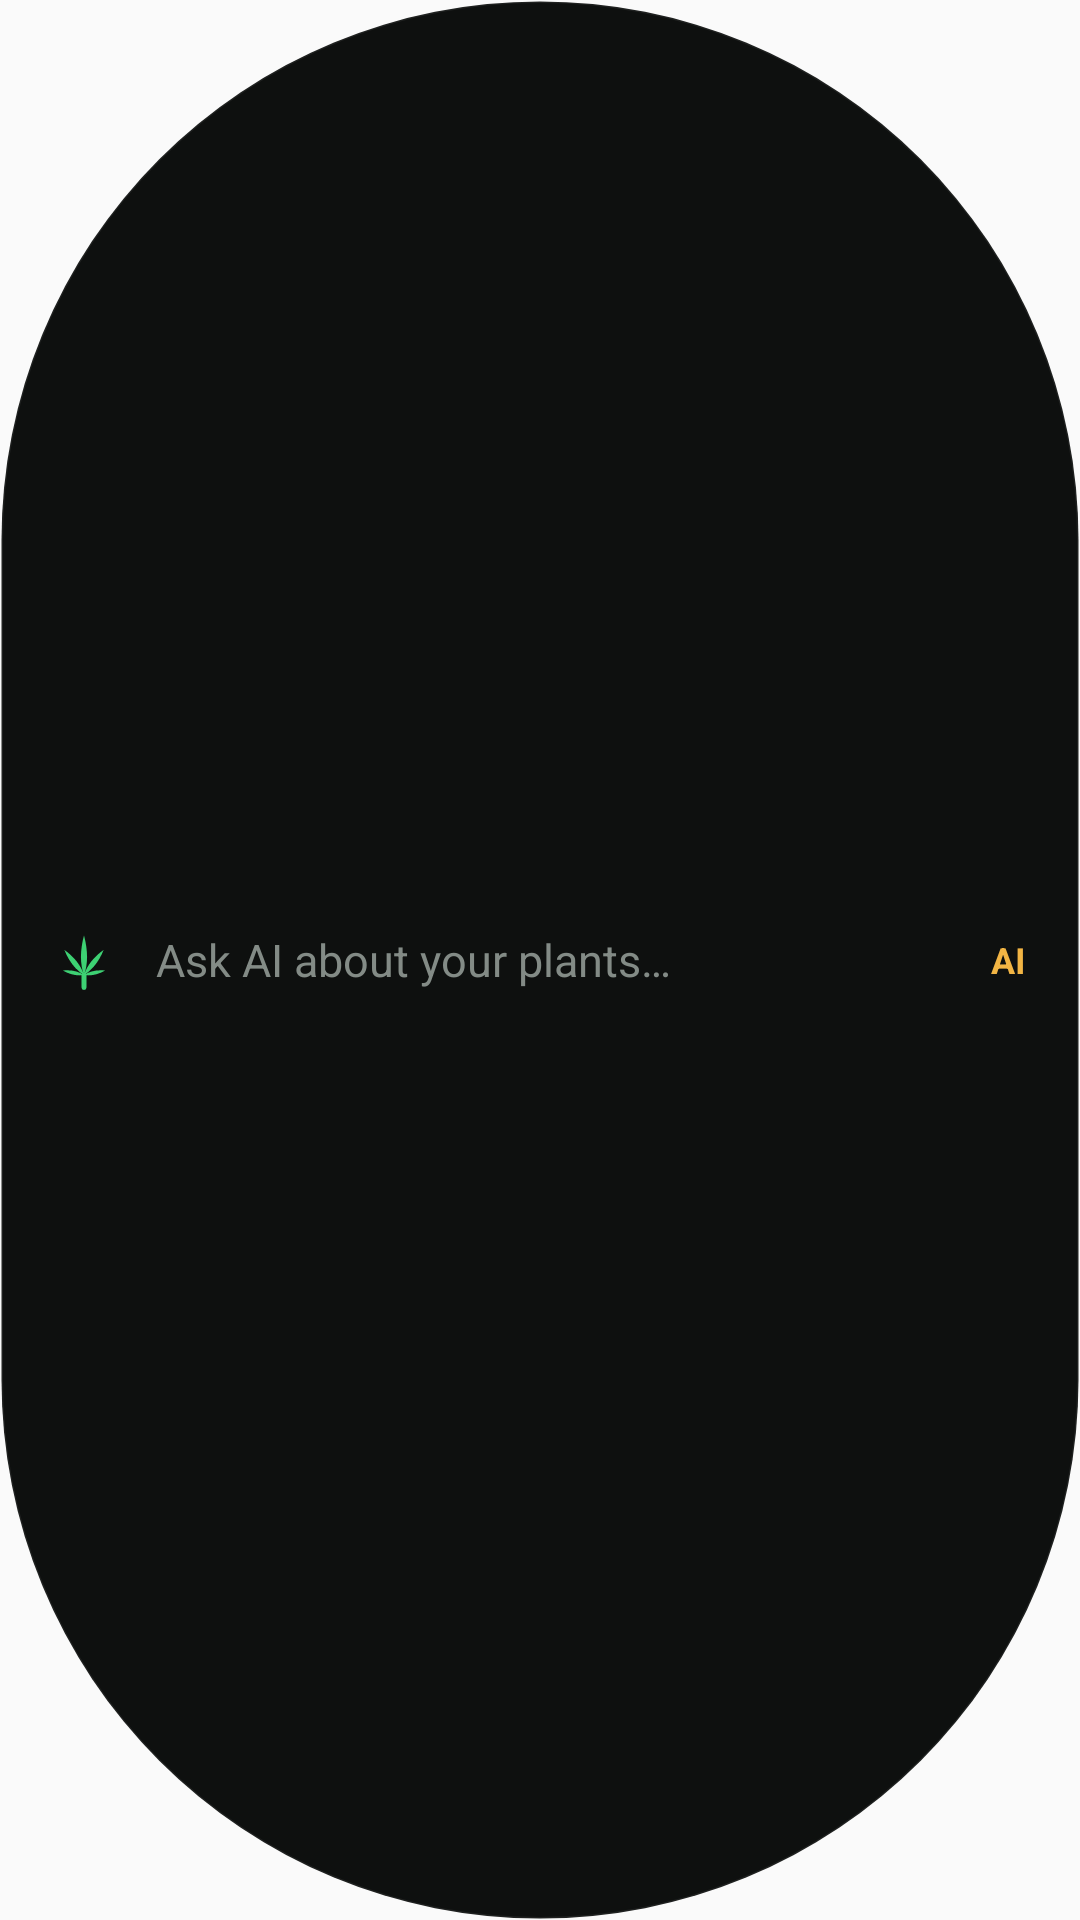

Where to tap for icons on this 1080x1920 app screen, as [x,y]:
widget leaf glyph: [84,963]
